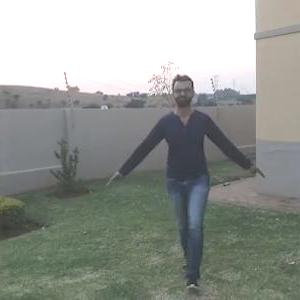land: (137, 85, 240, 264)
